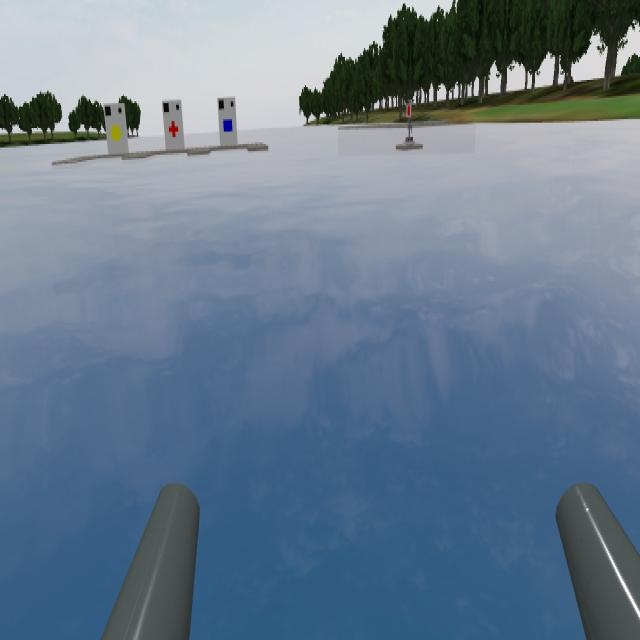red_pole: (404, 97, 414, 125)
